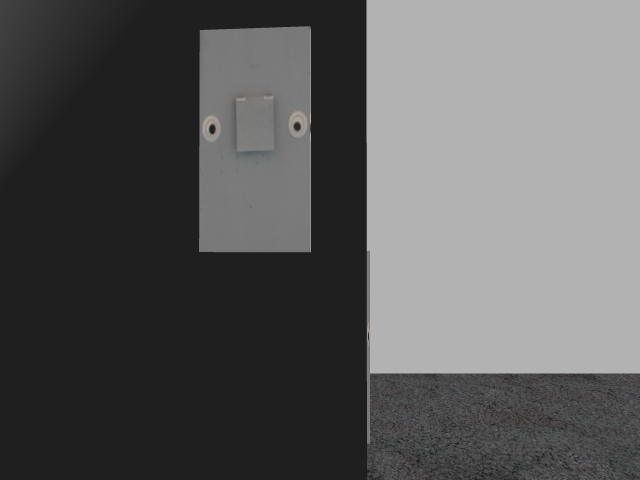facade: (201, 94, 307, 153)
